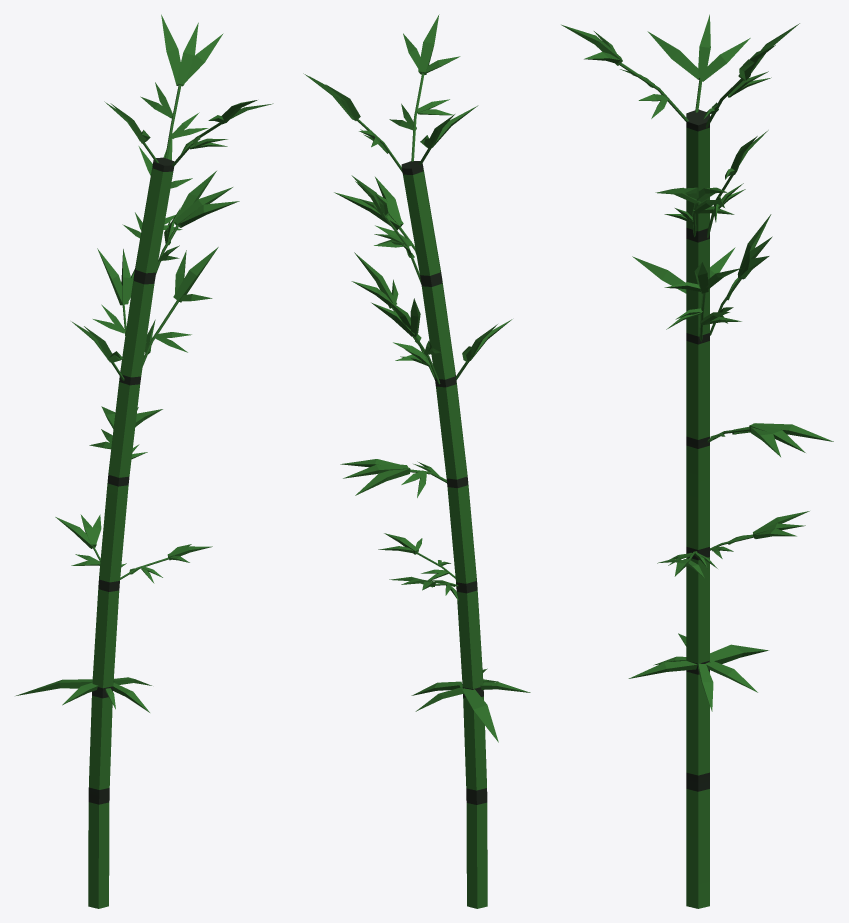
Rendered from bamboo4.FBX.
3 renders of one model, left to right at view 1: azimuth 30°, elevation 25°; view 2: azimuth 150°, elevation 25°; view 3: azimuth 270°, elevation 25°, orthographic. The views are drawn at different scales.
Visible parts, largest first — view 1: bamboo4; view 2: bamboo4; view 3: bamboo4.
Boxes of the visible parts, left/top/right/bottom form: bamboo4: left=16, top=14, right=273, bottom=908; bamboo4: left=303, top=14, right=530, bottom=908; bamboo4: left=561, top=14, right=833, bottom=908.
Size of the model in its own units: 89.09 by 92.19 by 348.
